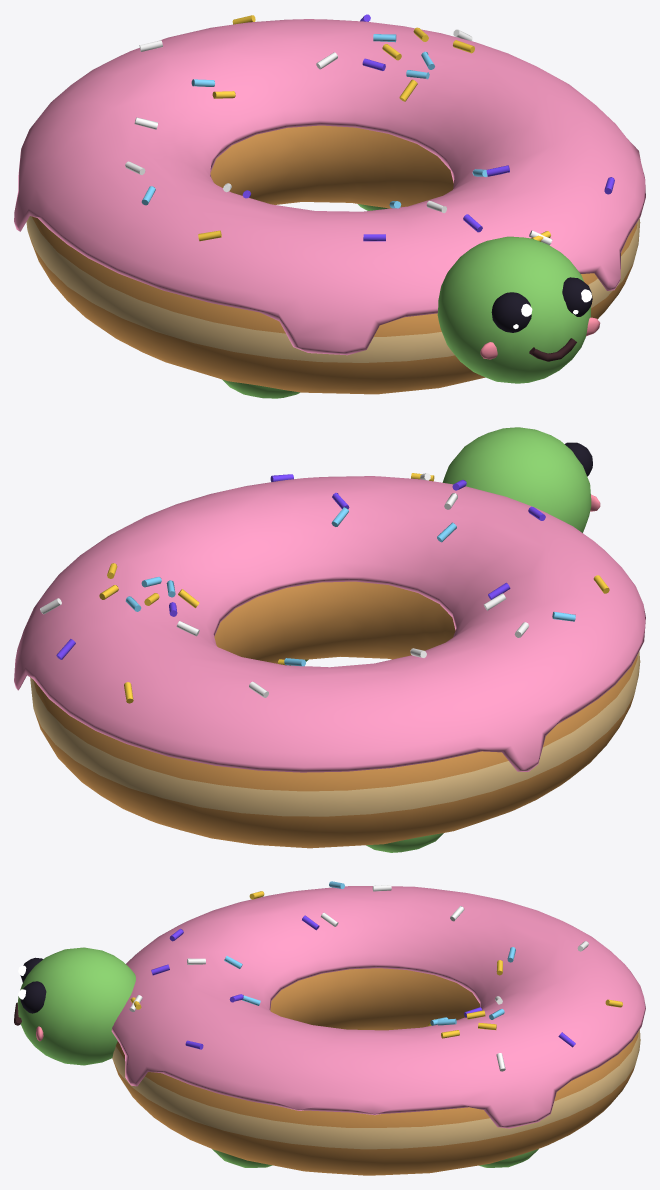
The model's file is pilot_skilpadde_smultring_lav.glb.
3 renders of one model, top to bottom at view 1: azimuth 30°, elevation 25°; view 2: azimuth 150°, elevation 25°; view 3: azimuth 270°, elevation 25°, orthographic. The views are drawn at different scales.
Parts seen in each view (by area): view 1: kropp, hode, bein_vf; view 2: kropp, hode, bein_vb; view 3: kropp, hode.
Boxes of the visible parts, x1,y1,x2,y2 form: kropp: (14,14,645,394); hode: (437,236,600,383); bein_vf: (222,379,300,398); kropp: (14,473,645,848); hode: (442,427,600,532); bein_vb: (366,833,443,852); kropp: (111,881,645,1175); hode: (14,947,135,1065).
Bounding box in the file's own units: 1.79 × 0.6099 × 2.27.
